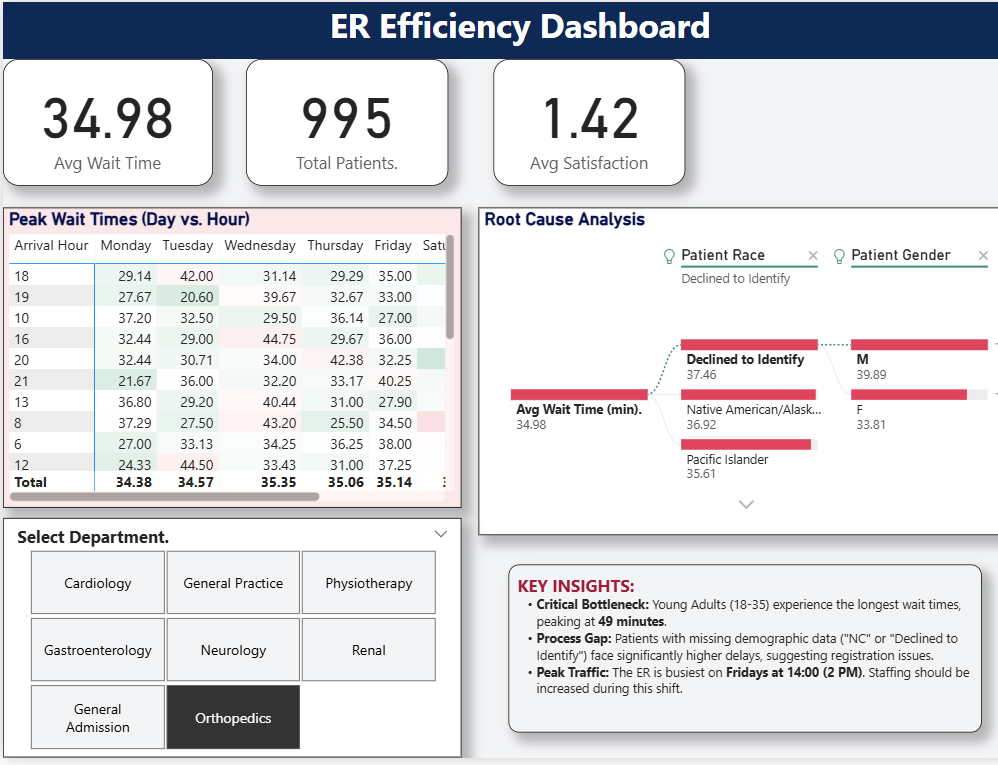

What the dashboard file says about the page in this screenshot:
{"tool":"powerbi","page":{"name":"Page 2","canvas":[960,720],"ordinal":0},"visuals":[{"type":"textbox","title":"ER Efficiency Dashboard","box":[0,0,985,53.9],"z":0},{"type":"card","fields":{"Values":["Avg(Hospital ER_Data.Patient Waittime)"]},"box":[0,53.9,199.8,120.5],"z":1000},{"type":"card","fields":{"Values":["Count(Hospital ER_Data.Patient Id)"]},"box":[231,53.9,192.8,120.5],"z":2000},{"type":"card","fields":{"Values":["Avg(Hospital ER_Data.Patient Satisfaction Score)"]},"box":[467.7,53.9,182.8,120.5],"z":3000},{"type":"pivotTable","title":"Peak Wait Times (Day vs. Hour)","fields":{"Rows":["Hospital ER_Data.Arrival Hour"],"Columns":["Hospital ER_Data.Day Name"],"Values":["Avg(Hospital ER_Data.Patient Waittime)"]},"box":[0,195.6,436.5,286.3],"z":4000},{"type":"decompositionTreeVisual","title":"Root Cause Analysis","fields":{"Analyze":["Avg(Hospital ER_Data.Patient Waittime)"],"ExplainBy":["Hospital ER_Data.Patient Gender","Hospital ER_Data.Patient Race","Hospital ER_Data.Age Group","Hospital ER_Data.Department Referral"]},"box":[453.5,195.6,506,311.8],"z":5000},{"type":"slicer","fields":{"Values":["Hospital ER_Data.Department Referral"]},"box":[0,491.8,436.5,228.2],"z":6000},{"type":"textbox","box":[481.9,535.8,450.7,160.2],"z":7000}]}

Visuals, with their boxes in screenshot pixels (x1, y1, x2, y2), scaled from the page's 960x720 canvas onto the 998x765 screenshot:
"ER Efficiency Dashboard" textbox: [left=0, top=0, right=997, bottom=57]
card - Avg(Hospital ER_Data.Patient Waittime): [left=0, top=57, right=208, bottom=185]
card - Count(Hospital ER_Data.Patient Id): [left=240, top=57, right=441, bottom=185]
card - Avg(Hospital ER_Data.Patient Satisfaction Score): [left=486, top=57, right=676, bottom=185]
"Peak Wait Times (Day vs. Hour)" pivotTable: [left=0, top=208, right=454, bottom=512]
"Root Cause Analysis" decompositionTreeVisual: [left=471, top=208, right=997, bottom=539]
slicer - Hospital ER_Data.Department Referral: [left=0, top=523, right=454, bottom=764]
textbox: [left=501, top=569, right=970, bottom=740]
